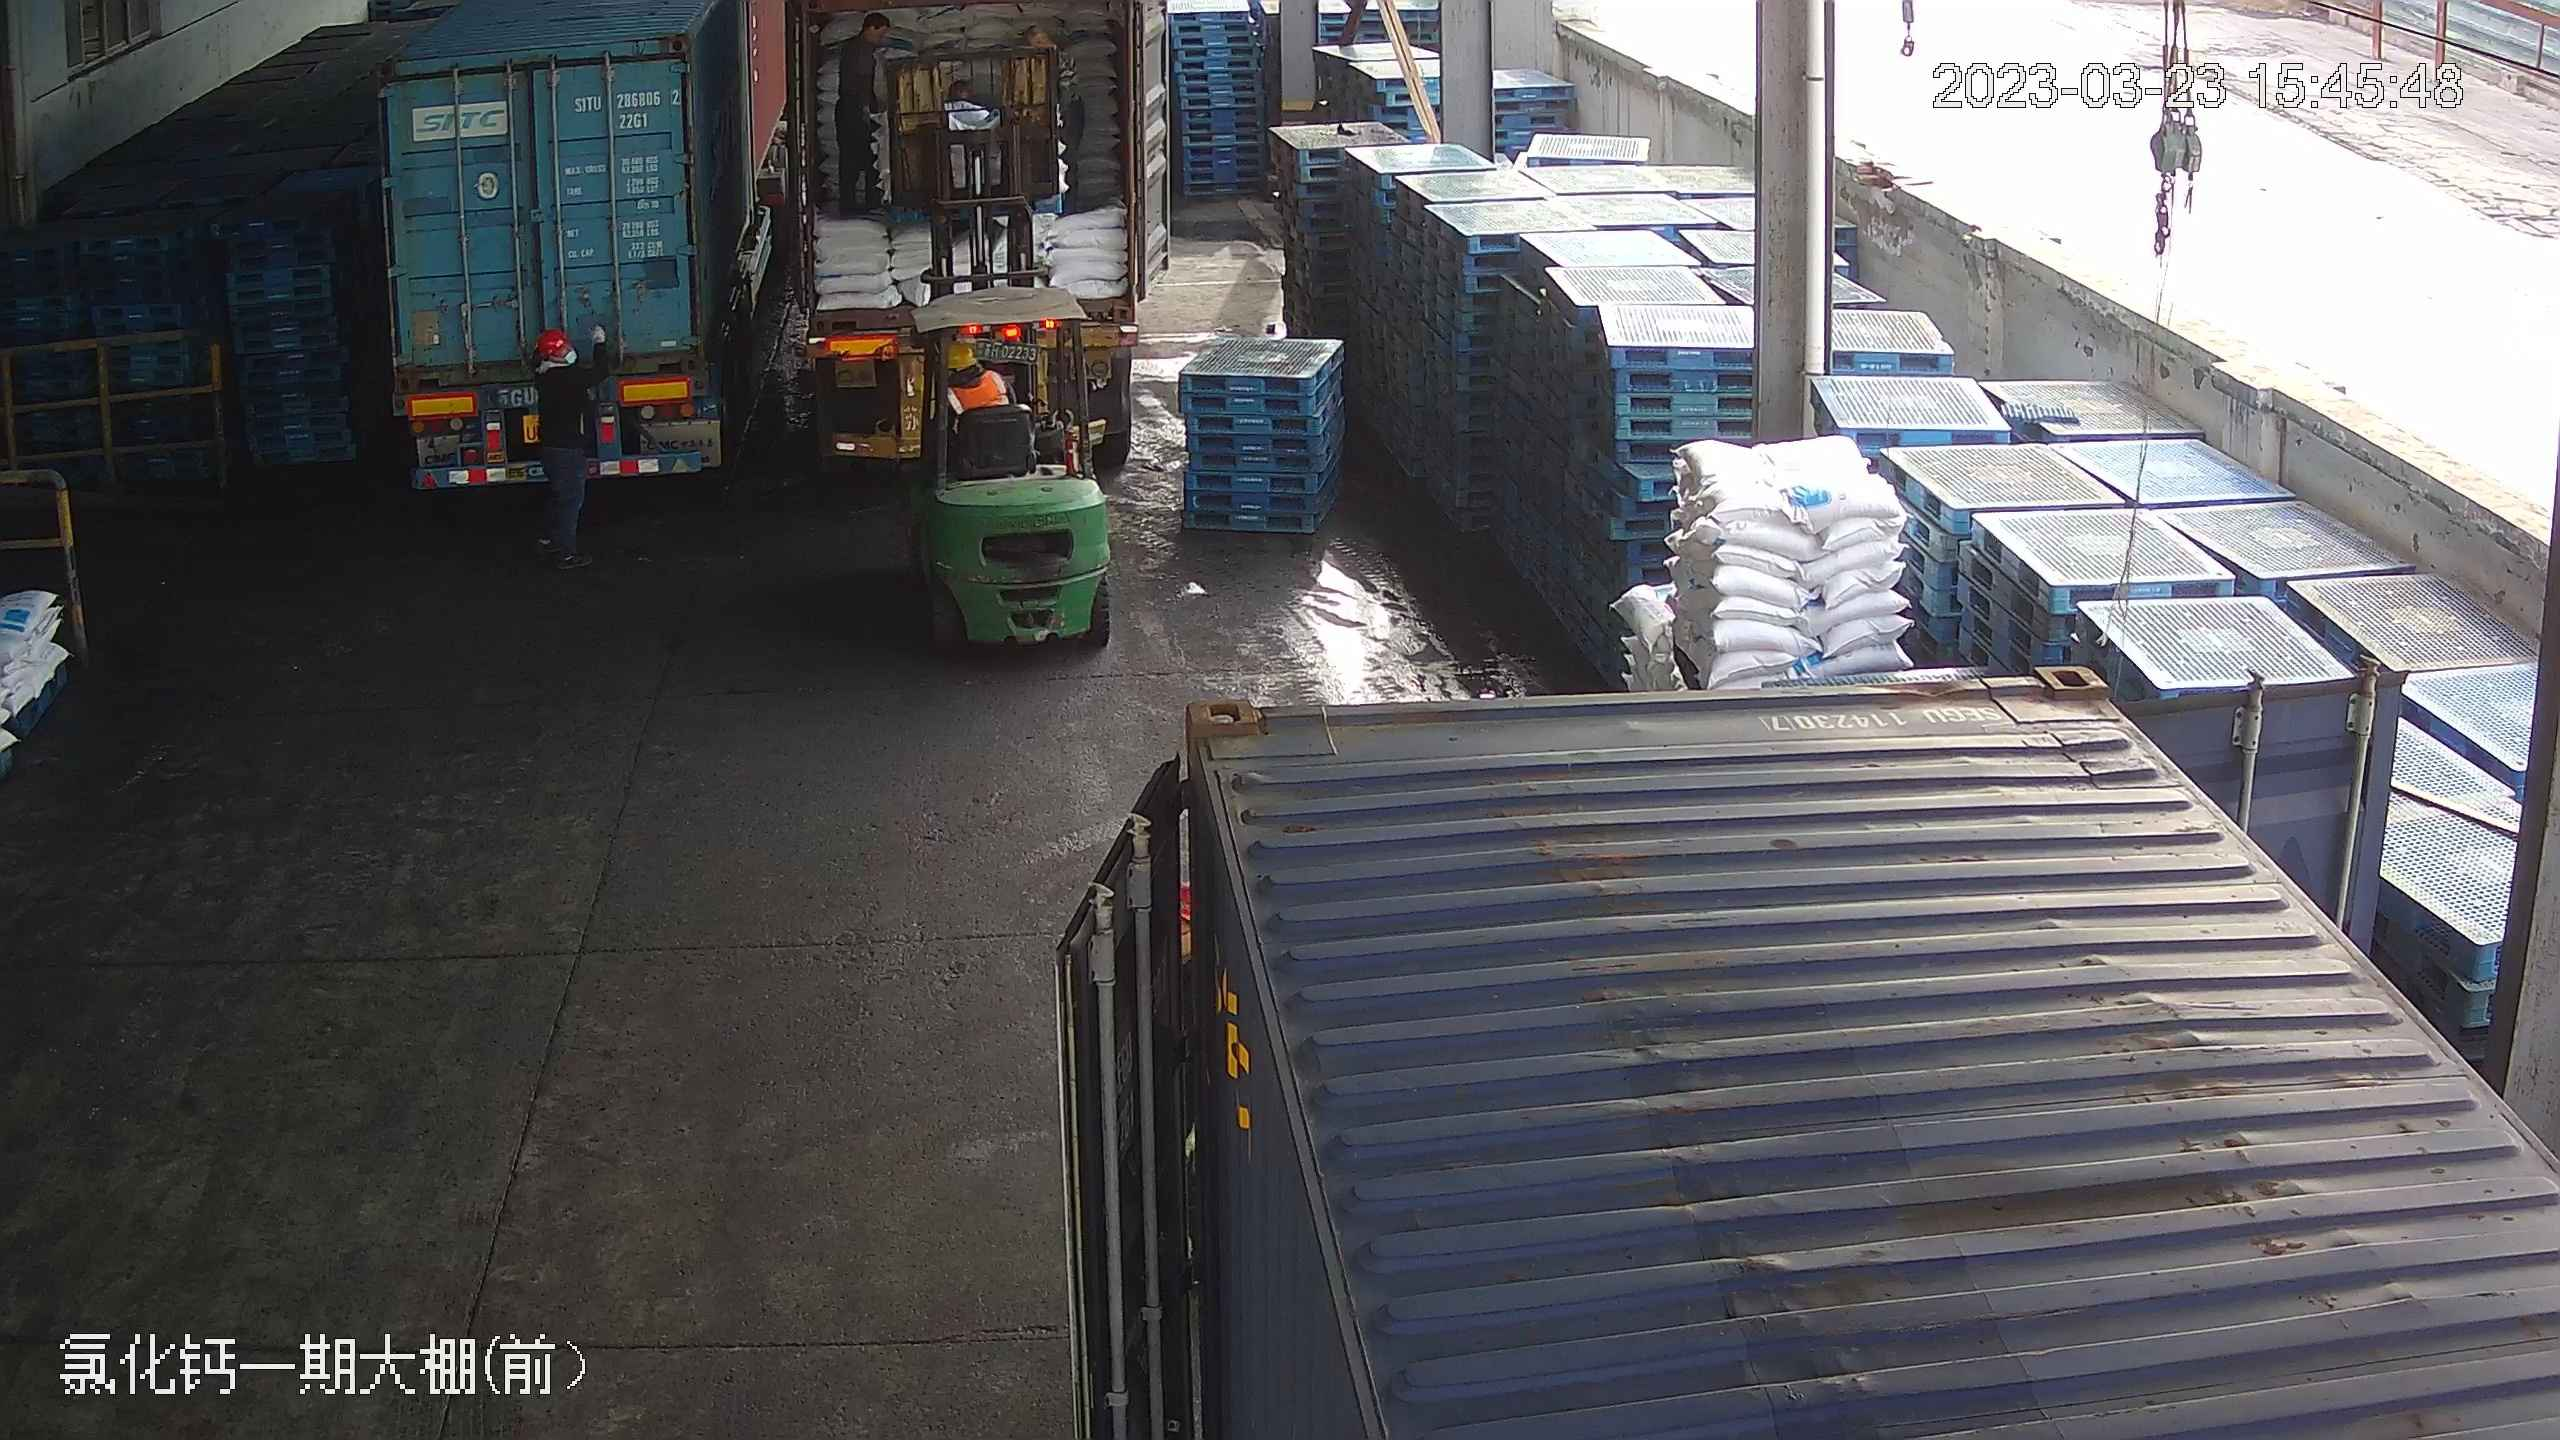head: (935, 338, 1006, 411), (527, 323, 590, 396), (839, 13, 893, 80)
helmet: (535, 324, 574, 356), (945, 338, 985, 368)
people: (520, 318, 603, 573), (832, 8, 891, 220)
truck: (369, 1, 792, 506)
